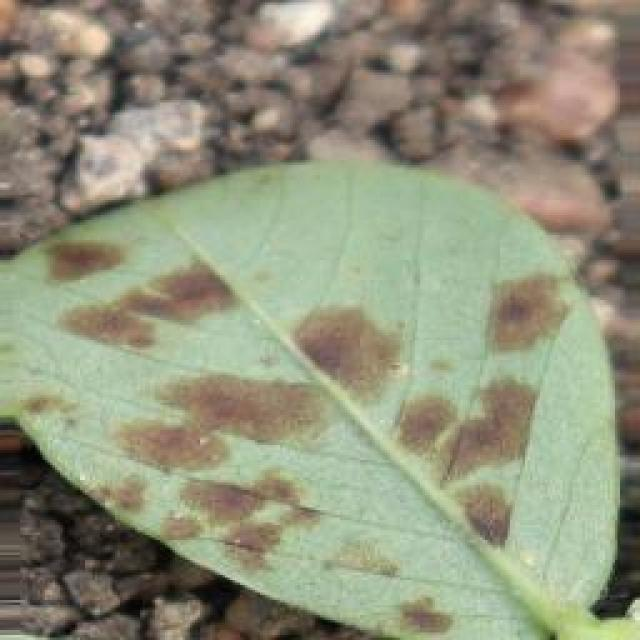Whitefly: (5, 145, 640, 640)
